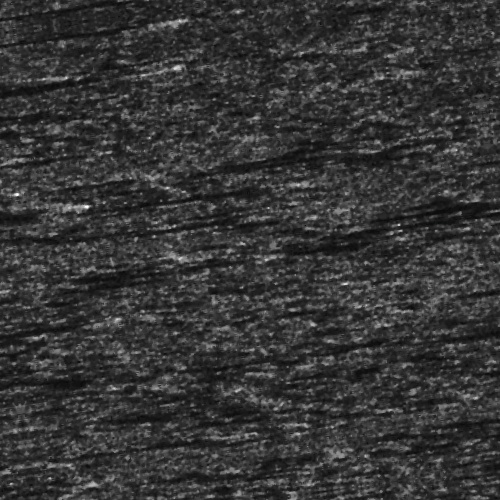object: (106, 51, 251, 62), (13, 451, 106, 464), (250, 250, 313, 263), (0, 43, 89, 52), (261, 184, 334, 193), (451, 158, 500, 169), (158, 6, 231, 13), (179, 423, 232, 432), (76, 295, 129, 304), (0, 120, 68, 127), (43, 178, 96, 183), (233, 211, 254, 218), (489, 359, 500, 368), (0, 156, 31, 159), (347, 164, 378, 167), (11, 171, 32, 174)
shadow: (200, 158, 488, 169), (99, 250, 282, 263), (0, 51, 179, 62), (16, 423, 205, 432), (118, 184, 297, 193), (0, 6, 194, 13), (332, 242, 500, 249), (106, 211, 243, 218), (0, 295, 102, 304), (400, 359, 500, 368), (0, 451, 60, 464), (189, 164, 362, 167), (48, 263, 189, 266), (0, 43, 43, 52), (0, 178, 69, 183), (471, 319, 500, 328), (0, 120, 21, 127), (0, 171, 21, 174)
